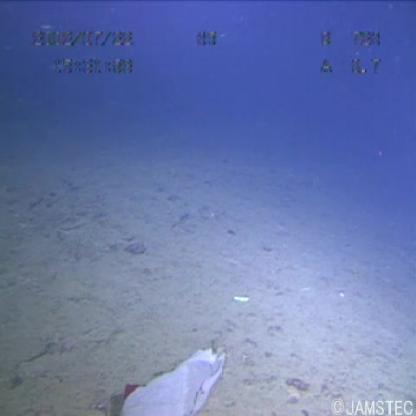Rác: (112, 330, 226, 416)
